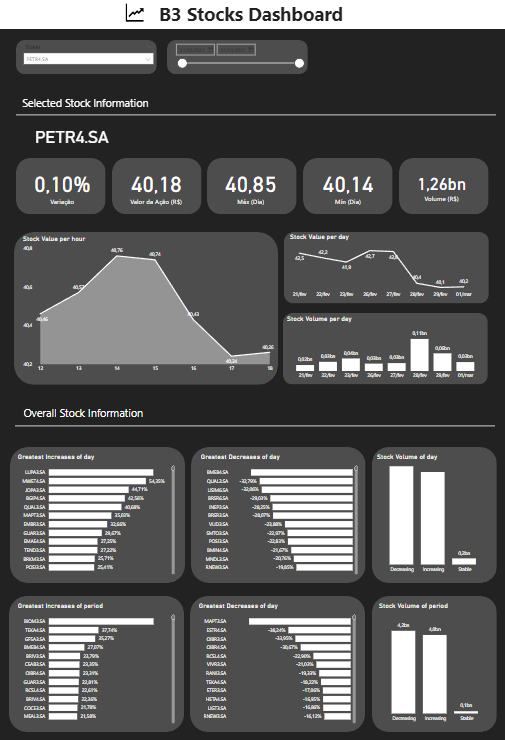

The dashboard page shown, as its layout file describes it:
{"tool":"powerbi","page":{"name":"Page 1","canvas":[1280,2500],"ordinal":0},"visuals":[{"type":"shape","box":[37.5,1880,1210,562.5],"z":0},{"type":"shape","box":[34.4,1496.7,437.8,340],"z":1000},{"type":"shape","box":[487.8,1496.7,437.8,340],"z":2000},{"type":"shape","box":[943.3,1496.7,312.2,340],"z":3000},{"type":"shape","box":[943.3,1124.4,312.2,340],"z":4000},{"type":"shape","box":[491.1,1124.4,436.7,340],"z":5000},{"type":"shape","box":[36.7,1124.4,437.8,340],"z":6000},{"type":"shape","box":[428.9,107.8,352.2,85.6],"z":7000},{"type":"shape","box":[53.3,106.7,352.2,85.6],"z":8000},{"type":"shape","box":[722.2,586.7,512.2,178.9],"z":9000},{"type":"shape","box":[720,790,512.2,178.9],"z":10000},{"type":"shape","box":[46.7,586.7,660,382.2],"z":11000},{"type":"shape","box":[291.4,403.1,224.4,141],"z":12000},{"type":"shape","box":[530.7,403.1,224.4,141],"z":13000},{"type":"shape","box":[771,403.1,224.4,141],"z":14000},{"type":"shape","box":[1010.3,403.1,224.4,141],"z":15000},{"type":"shape","box":[53.1,403.1,224.4,141],"z":16000},{"type":"areaChart","title":"Stock Value per hour","fields":{"Category":["Query1 (2).hora"],"Y":["Medidas.Adj_Close_m2"]},"box":[64.4,595.6,636.7,352.2],"z":17000},{"type":"card","fields":{"Values":["Medidas.Volatity_perc_m"]},"box":[56.7,402.2,221.1,141.1],"z":18000},{"type":"slicer","fields":{"Values":["Query1.Date2"]},"box":[438.9,107.8,342.2,75.6],"z":19000},{"type":"card","fields":{"Values":["Medidas.Adj_Close_m"]},"box":[303.3,403.1,200.6,141],"z":20000},{"type":"card","fields":{"Values":["Medidas.High_m"]},"box":[544.7,403.5,188.7,141],"z":21000},{"type":"card","fields":{"Values":["Medidas.Low_m"]},"box":[768.5,403.5,229.5,141],"z":22000},{"type":"card","fields":{"Values":["Medidas.Stock_volume_m"]},"box":[1005.7,402.9,222.9,141.4],"z":23000},{"type":"lineChart","title":"Stock Value per day","fields":{"Y":["Sum(Query1.Adj_Close)"],"Category":["Query1.Date2"]},"box":[733.3,591.1,467.8,171.1],"z":24000},{"type":"columnChart","title":"Stock Volume per day","fields":{"Category":["Query1.Date2"],"Y":["Sum(daily_base.Volume)"]},"box":[725.6,794.4,502.2,170],"z":25000},{"type":"pivotTable","fields":{"Rows":["daily_base.Ticker"],"Values":["Sum(daily_base.Adj_Close)","Sum(daily_base.Adj_Close_ant)","Sum(daily_base.Volatility)","Sum(daily_base.Marketcap)","Sum(daily_base.High)","Sum(daily_base.Low)","Sum(daily_base.Volatility_perc)","Sum(daily_base.Volume)"]},"box":[90,1912.5,795,500],"z":26000},{"type":"slicer","fields":{"Values":["daily_base.Ticker"]},"box":[62.2,112.2,343.3,75.6],"z":27000},{"type":"clusteredBarChart","title":"Greatest Increases of day","fields":{"Category":["hourly_base.Ticker"],"Y":["Medidas.Volatility_perc_m2"]},"box":[52.2,1140,402.2,308.9],"z":28000},{"type":"clusteredBarChart","title":"Greatest Decreases of day","fields":{"Category":["hourly_base.Ticker"],"Y":["Medidas.Volatility_perc_m2"]},"box":[508.9,1140,402.2,308.9],"z":29000},{"type":"columnChart","title":"Stock Volume of day","fields":{"Category":["hourly_base.Volatility_label"],"Y":["Sum(hourly_base.Volume)"]},"box":[950.7,1140.2,291.9,308.8],"z":30000},{"type":"clusteredBarChart","title":"Greatest Decreases of day","fields":{"Y":["Sum(daily_base.Volatility_perc)"],"Category":["daily_base.Ticker"]},"box":[505.6,1512.2,402.2,308.9],"z":31000},{"type":"columnChart","title":"Stock Volume of period","fields":{"Y":["Sum(daily_base.Volume)"],"Category":["daily_base.Volatility_label"]},"box":[954.7,1512.6,291.9,308.8],"z":32000},{"type":"clusteredBarChart","title":"Greatest Increases of period","fields":{"Y":["Sum(daily_base.Volatility_perc)"],"Category":["daily_base.Ticker"]},"box":[52.2,1512.2,402.2,308.9],"z":33000},{"type":"card","fields":{"Values":["Min(daily_base.Ticker)"]},"box":[46.7,290,288.9,112.2],"z":34000},{"type":"shape","box":[0,0,1280,80],"z":35000},{"type":"shape","box":[53.3,257.8,1200,74.4],"z":36000},{"type":"shape","box":[46.7,236.7,356.7,53.3],"z":37000},{"type":"shape","box":[50,1034.4,1200,74.4],"z":38000},{"type":"shape","box":[43.3,1013.3,356.7,53.3],"z":39000},{"type":"image","box":[297.5,3.3,102.5,72.5],"z":40000}]}

Visuals, with their boxes on the page's 1280x2500 design canvas (x1, y1, x2, y2). These are canvas units, not pixel positions in the 505x740 screenshot, which may show the page scaled, cropped or inside an application window:
shape: box=[38, 1880, 1248, 2442]
shape: box=[34, 1497, 472, 1837]
shape: box=[488, 1497, 926, 1837]
shape: box=[943, 1497, 1256, 1837]
shape: box=[943, 1124, 1256, 1464]
shape: box=[491, 1124, 928, 1464]
shape: box=[37, 1124, 474, 1464]
shape: box=[429, 108, 781, 193]
shape: box=[53, 107, 406, 192]
shape: box=[722, 587, 1234, 766]
shape: box=[720, 790, 1232, 969]
shape: box=[47, 587, 707, 969]
shape: box=[291, 403, 516, 544]
shape: box=[531, 403, 755, 544]
shape: box=[771, 403, 995, 544]
shape: box=[1010, 403, 1235, 544]
shape: box=[53, 403, 278, 544]
"Stock Value per hour" areaChart: box=[64, 596, 701, 948]
card - Medidas.Volatity_perc_m: box=[57, 402, 278, 543]
slicer - Query1.Date2: box=[439, 108, 781, 183]
card - Medidas.Adj_Close_m: box=[303, 403, 504, 544]
card - Medidas.High_m: box=[545, 404, 733, 544]
card - Medidas.Low_m: box=[768, 404, 998, 544]
card - Medidas.Stock_volume_m: box=[1006, 403, 1229, 544]
"Stock Value per day" lineChart: box=[733, 591, 1201, 762]
"Stock Volume per day" columnChart: box=[726, 794, 1228, 964]
pivotTable - daily_base.Ticker x Sum(daily_base.Adj_Close): box=[90, 1912, 885, 2412]
slicer - daily_base.Ticker: box=[62, 112, 406, 188]
"Greatest Increases of day" clusteredBarChart: box=[52, 1140, 454, 1449]
"Greatest Decreases of day" clusteredBarChart: box=[509, 1140, 911, 1449]
"Stock Volume of day" columnChart: box=[951, 1140, 1243, 1449]
"Greatest Decreases of day" clusteredBarChart: box=[506, 1512, 908, 1821]
"Stock Volume of period" columnChart: box=[955, 1513, 1247, 1821]
"Greatest Increases of period" clusteredBarChart: box=[52, 1512, 454, 1821]
card - Min(daily_base.Ticker): box=[47, 290, 336, 402]
shape: box=[0, 0, 1280, 80]
shape: box=[53, 258, 1253, 332]
shape: box=[47, 237, 403, 290]
shape: box=[50, 1034, 1250, 1109]
shape: box=[43, 1013, 400, 1067]
image: box=[298, 3, 400, 76]
